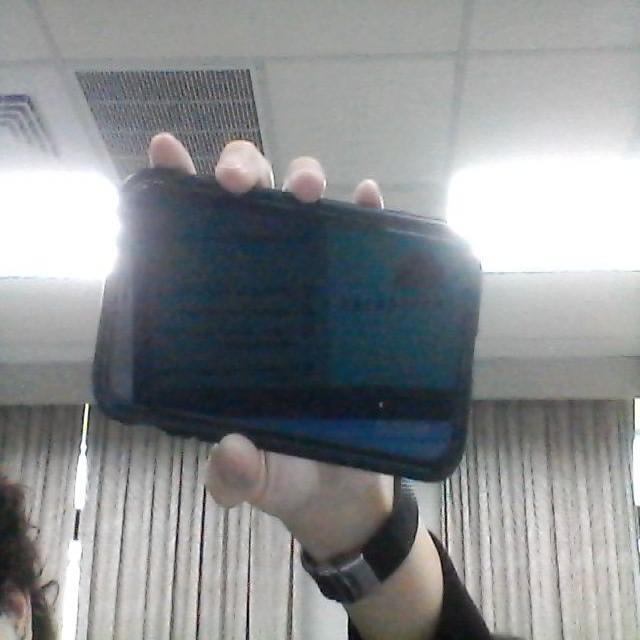Phone: (90, 162, 508, 568)
